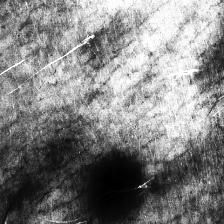Benign Marking or Mole: (91, 155, 142, 219)
